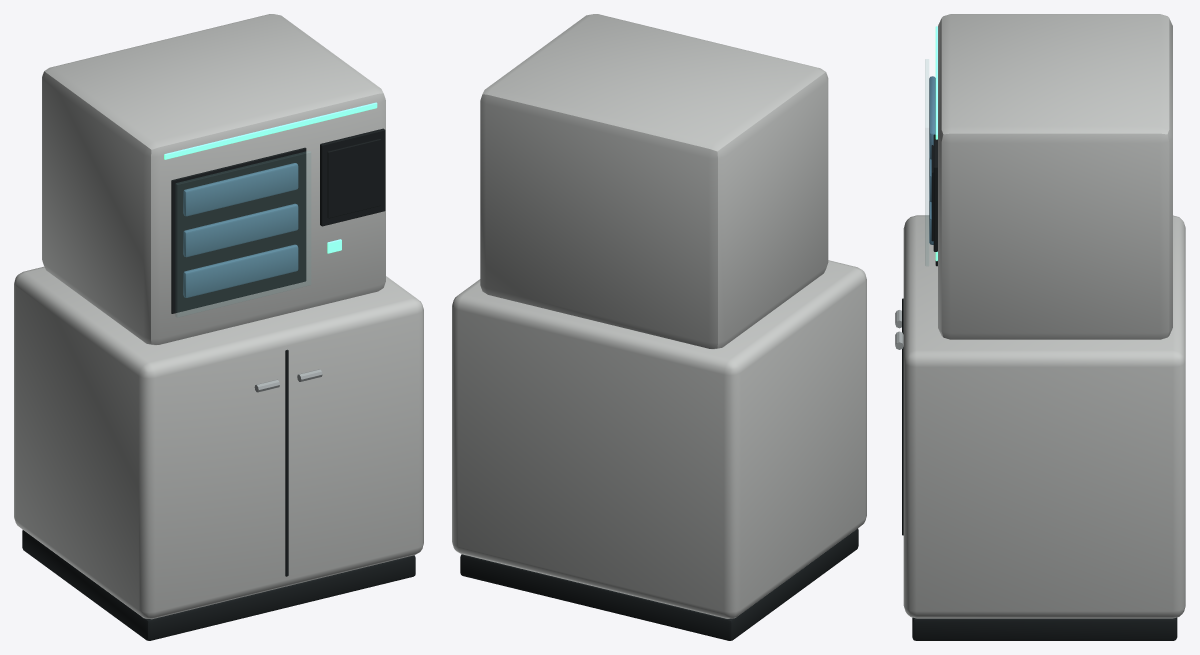
File: slide-scanner.glb
The picture shows the model from 3 angles, left to right: view 1: azimuth 30°, elevation 25°; view 2: azimuth 150°, elevation 25°; view 3: azimuth 270°, elevation 25°; orthographic projection. The views are drawn at different scales.
Parts seen in each view (by area): view 1: slide-scanner; view 2: slide-scanner; view 3: slide-scanner.
Boxes of the visible parts, bbox=[...] form: slide-scanner: bbox=[14, 14, 423, 640]; slide-scanner: bbox=[452, 14, 866, 640]; slide-scanner: bbox=[895, 14, 1185, 640].
Bounding box in the file's own units: 0.8 × 1.3 × 0.68.
